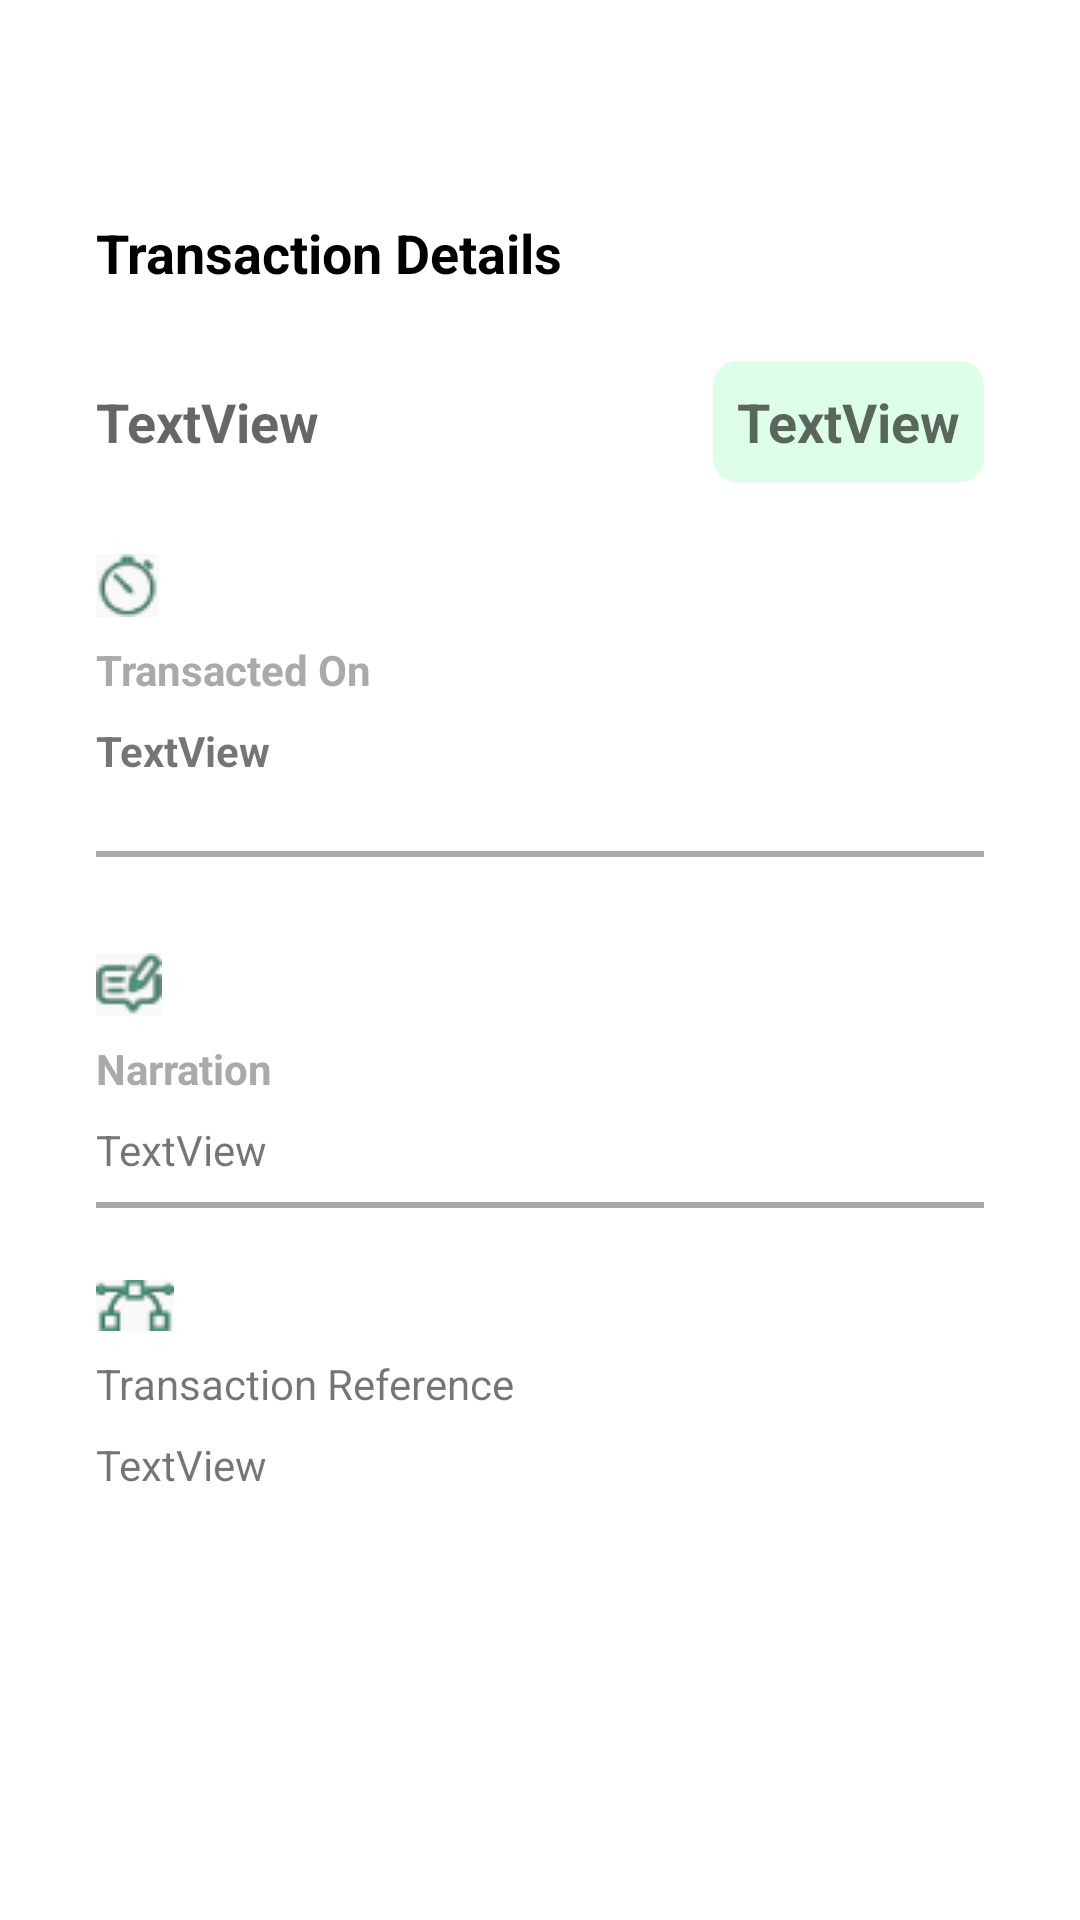

Screen size 1080w x 1920h. Icon name, then its box in pixels as (x1, y1, x2, y2):
clock: (98, 554, 157, 617)
comment: (96, 953, 162, 1014)
